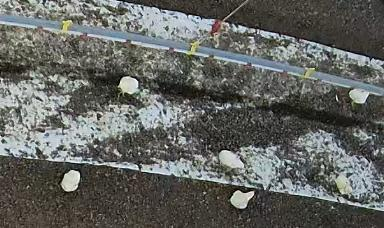chick: (59, 169, 81, 193), (230, 188, 255, 209), (219, 150, 245, 170), (117, 76, 140, 96), (334, 174, 352, 195), (350, 86, 371, 104)
